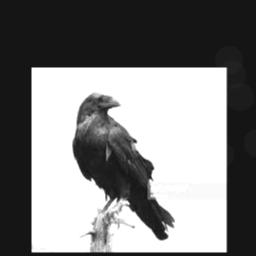Crow: (71, 91, 174, 242)
